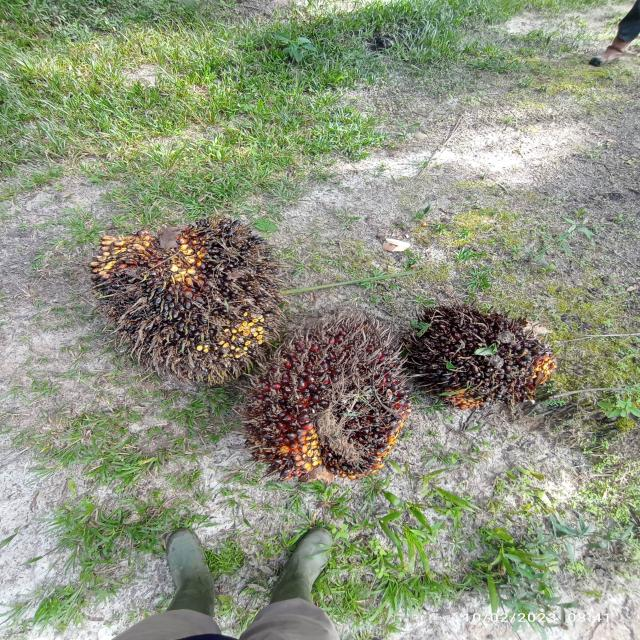fraksi 00: (59, 161, 291, 381), (390, 275, 594, 450)
fraksi 1: (233, 304, 412, 497)
